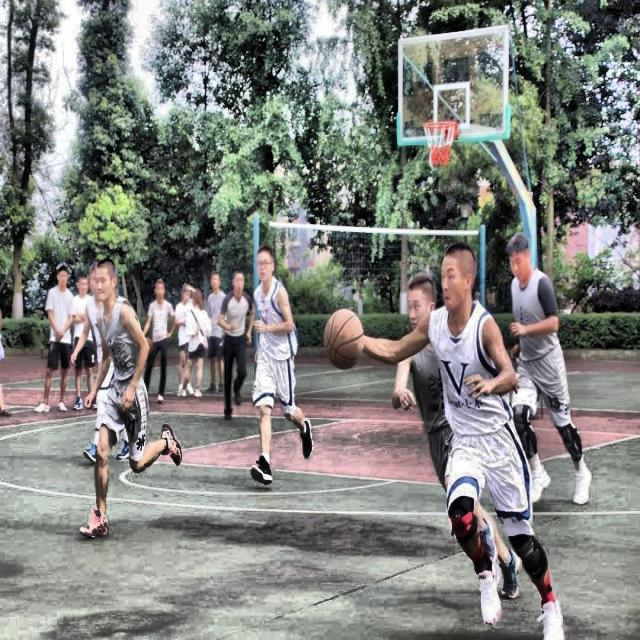board: (325, 309, 364, 369)
